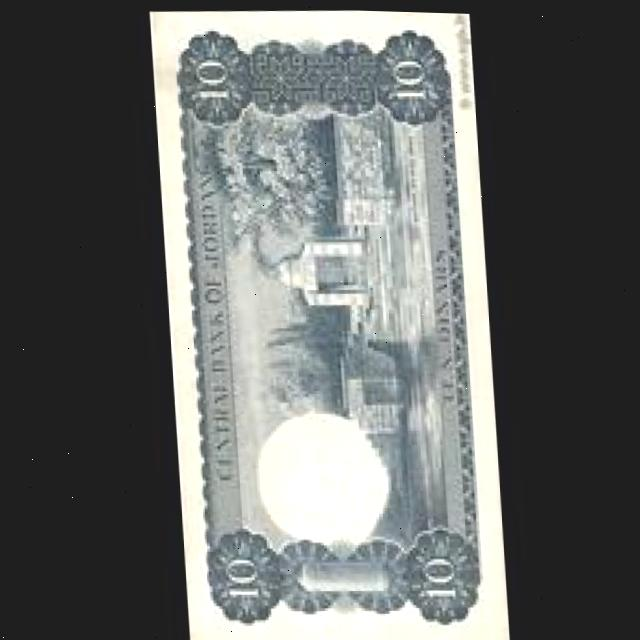banknote: (146, 3, 506, 640)
